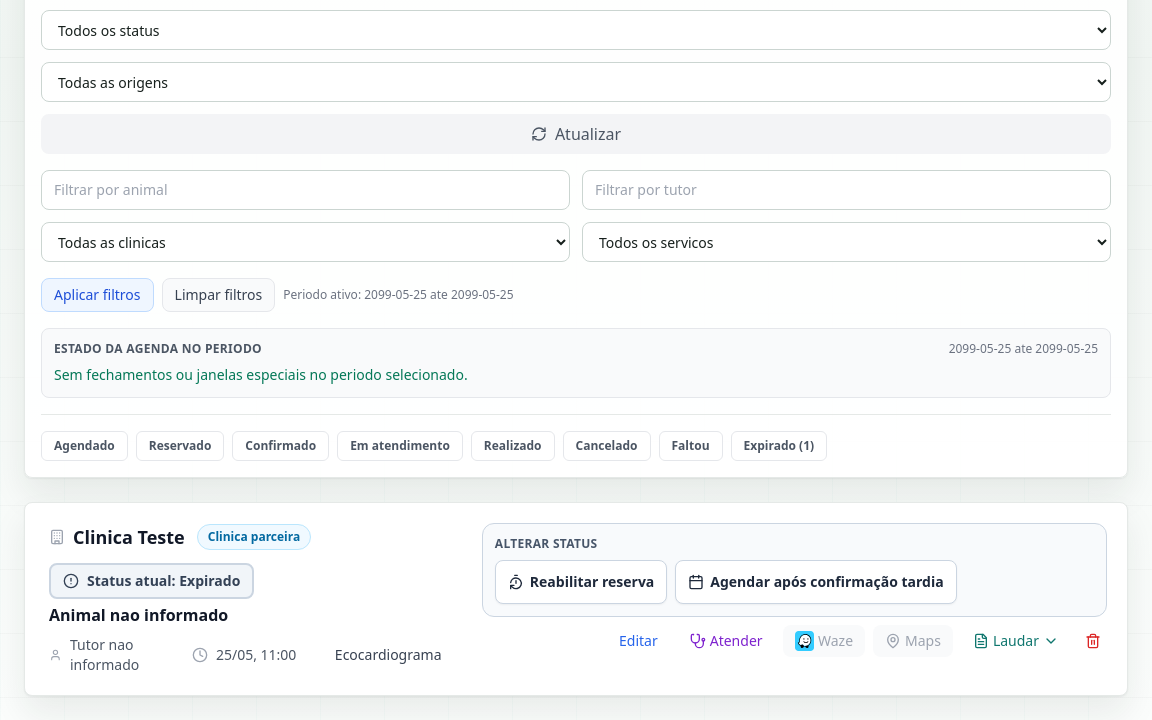
Scenario: avisos da Agenda › mostra a falha de confirmação tardia na viewport e acima do modal de reabilitação
(page scrolled)
Click the button "Agendar após confirmação tardia" at (816, 582), box [675,560,957,604]
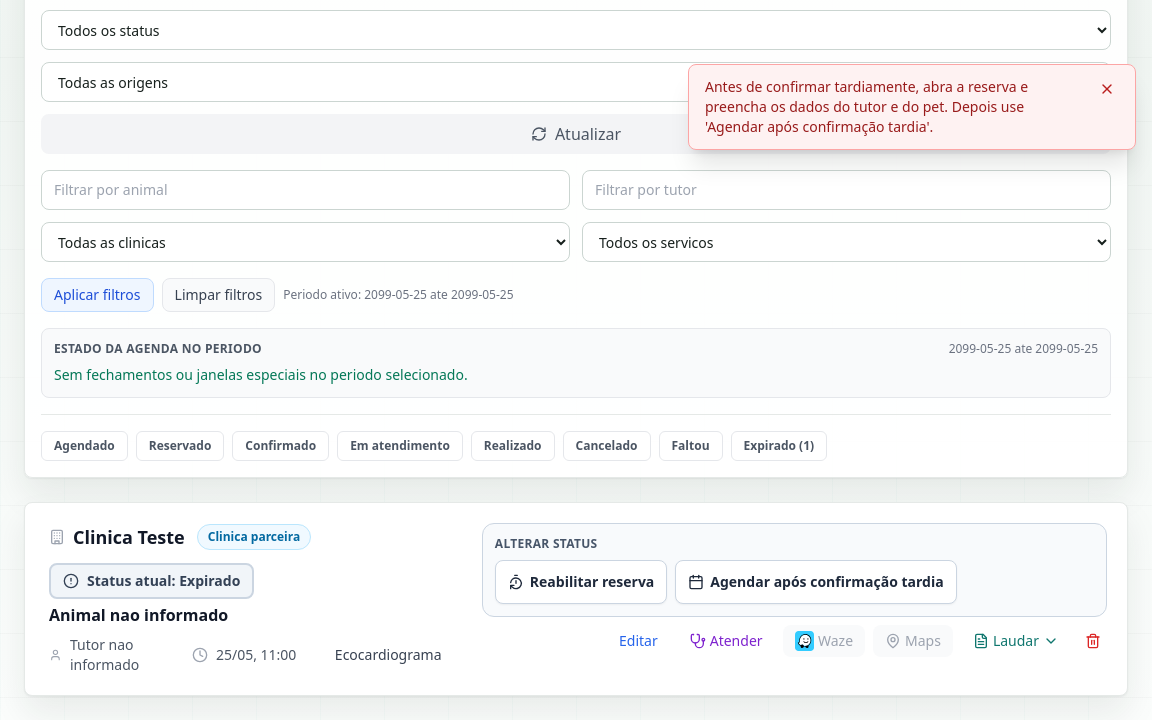
Expected: the message shows "Antes de confirmar tardiamente", [705,77,1028,136]
Expected: the button named "Fechar aviso de erro" is shown, [1095,77,1119,101]
Click the button "Reabilitar reserva" at (581, 582), box [495,560,667,604]
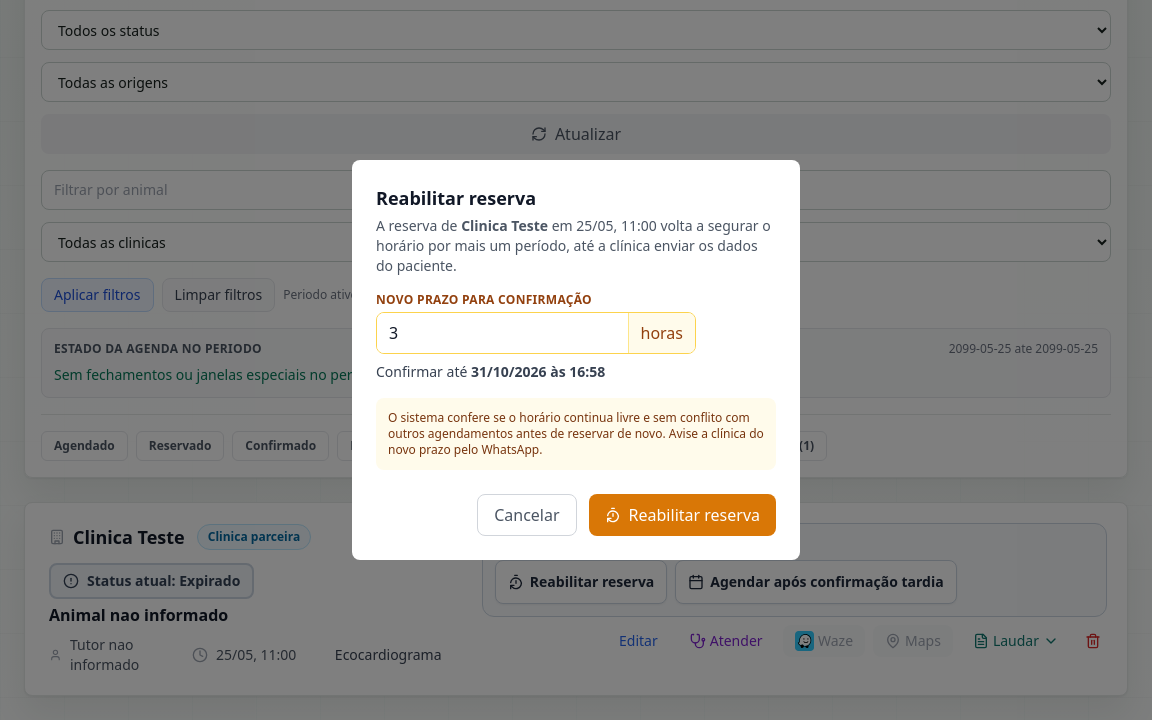
Click the button "Reabilitar reserva" at (682, 515), box [589,494,776,536]
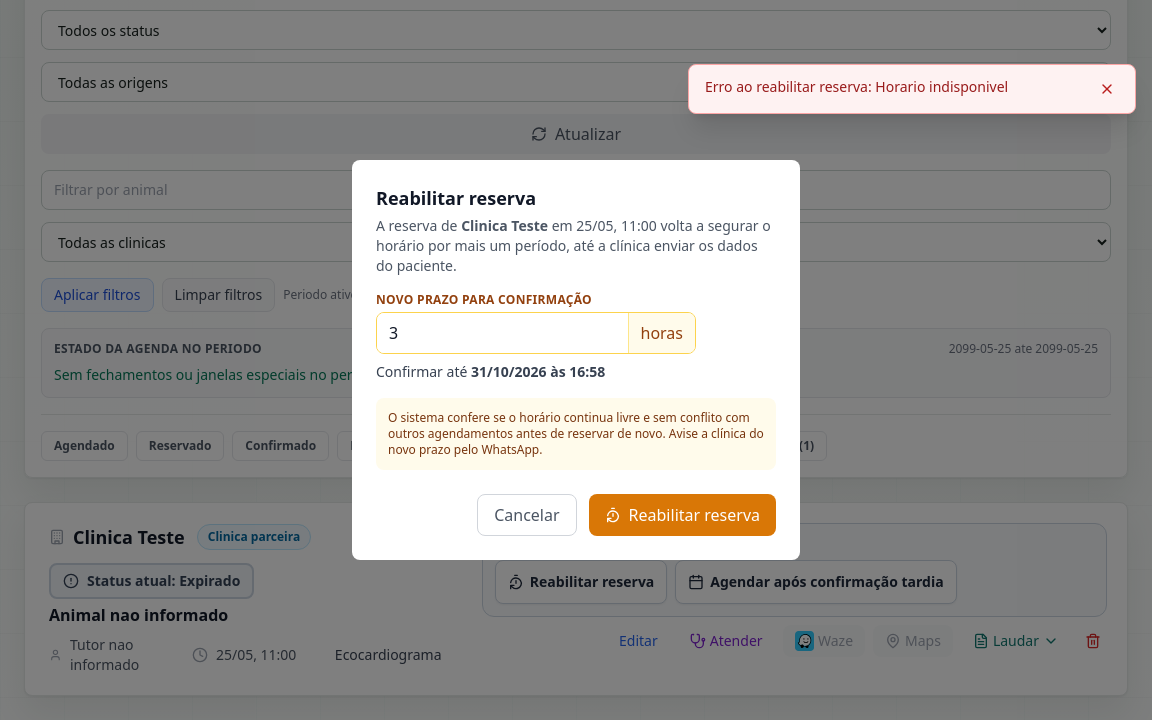
Expected: the heading "Reabilitar reserva" is shown, [376,186,536,210]
Expected: the message shows "Horario indisponivel", [705,77,1008,96]
